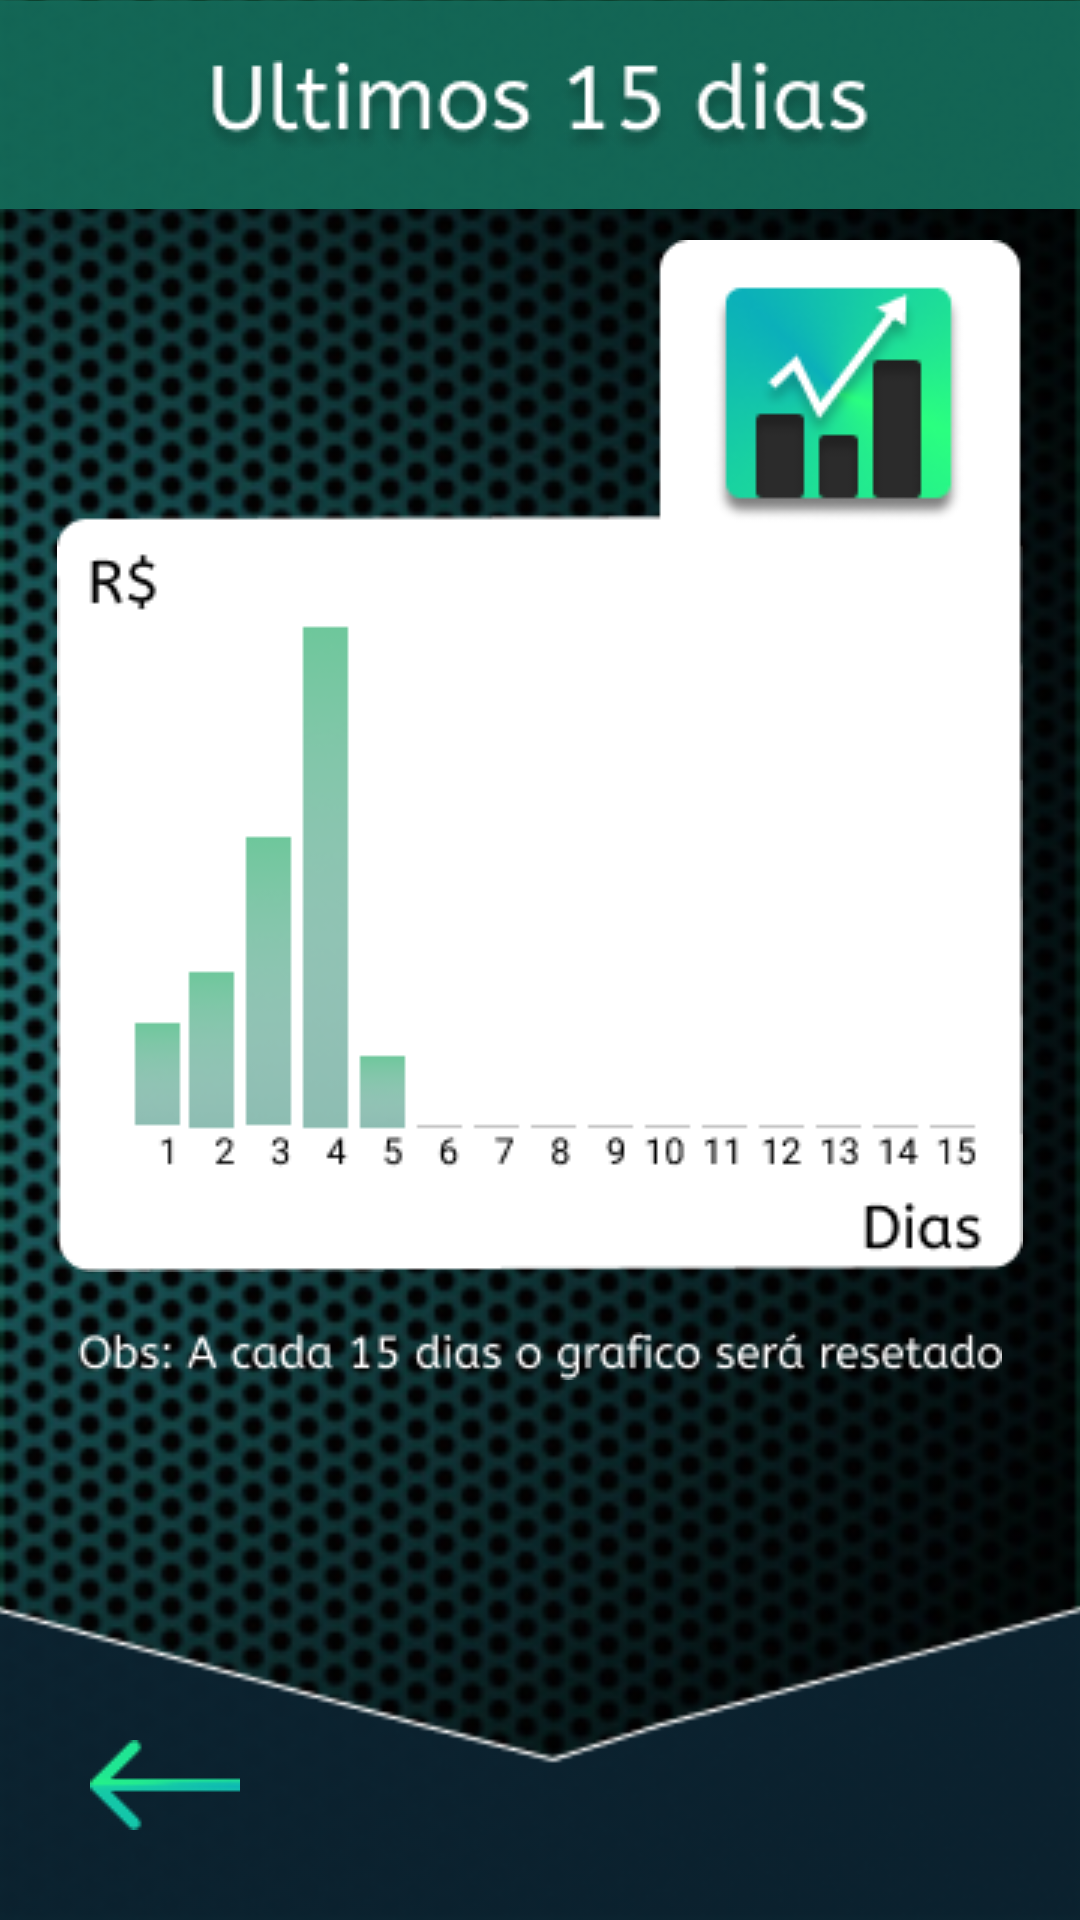

Icons on this 1080 x 1920 Android screen, each with its box as (x1, y1, x2, y2):
voltaricon: (90, 1740, 240, 1830)
